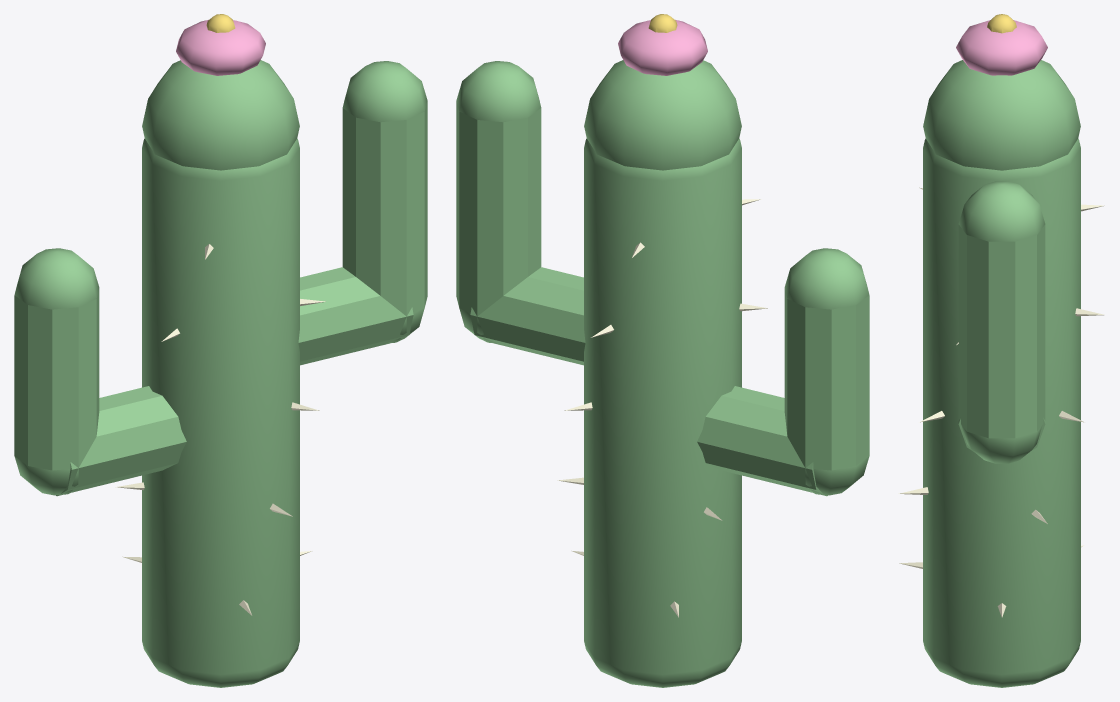
Rendered from decor_cactus.glb.
The picture shows the model from 3 angles, left to right: view 1: azimuth 30°, elevation 25°; view 2: azimuth 150°, elevation 25°; view 3: azimuth 270°, elevation 25°; orthographic projection.
Parts seen in each view (by area): view 1: Stem, ArmV, ArmV.001, StemTop, ArmH.001, ArmH, ArmTop, ArmTop.001, Flower, Elbow.001; view 2: Stem, ArmV, ArmV.001, StemTop, ArmH.001, ArmH, ArmTop, ArmTop.001, Flower, Elbow.001; view 3: Stem, ArmV, StemTop, ArmTop, Flower, Elbow, FlowerCore.
Boxes of the visible parts, x1,y1,x2,y2 form: Stem: [142, 138, 299, 687]; ArmV: [342, 100, 427, 316]; ArmV.001: [14, 289, 99, 470]; StemTop: [142, 60, 299, 170]; ArmH.001: [56, 386, 186, 496]; ArmH: [298, 267, 413, 365]; ArmTop: [342, 61, 427, 122]; ArmTop.001: [14, 248, 99, 309]; Flower: [176, 19, 265, 75]; Elbow.001: [14, 456, 78, 495]; Stem: [584, 138, 741, 687]; ArmV: [456, 100, 541, 316]; ArmV.001: [784, 289, 869, 470]; StemTop: [584, 60, 741, 170]; ArmH.001: [697, 386, 827, 496]; ArmH: [470, 267, 585, 365]; ArmTop: [456, 61, 541, 122]; ArmTop.001: [784, 248, 869, 309]; Flower: [618, 19, 707, 75]; Elbow.001: [805, 456, 869, 495]; Stem: [923, 138, 1080, 687]; ArmV: [958, 225, 1045, 438]; StemTop: [923, 60, 1080, 170]; ArmTop: [958, 181, 1045, 241]; Flower: [956, 20, 1047, 75]; Elbow: [961, 425, 1042, 463]; FlowerCore: [987, 14, 1016, 33].
Bounding box in the file's own units: 1.17 × 1.81 × 0.5265.
